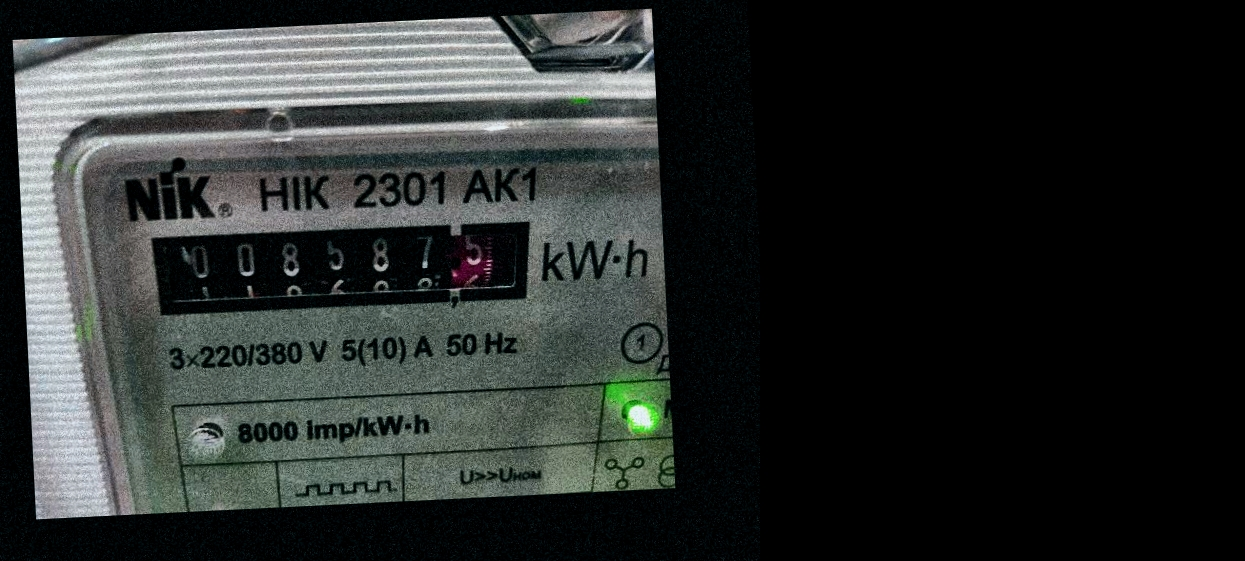0: (232, 237, 258, 278)
1: (186, 239, 212, 281)
5: (461, 227, 487, 268), (323, 233, 348, 272)
7: (412, 230, 437, 272)
8: (276, 237, 303, 279), (368, 232, 391, 274)
screen: (130, 198, 553, 337)
